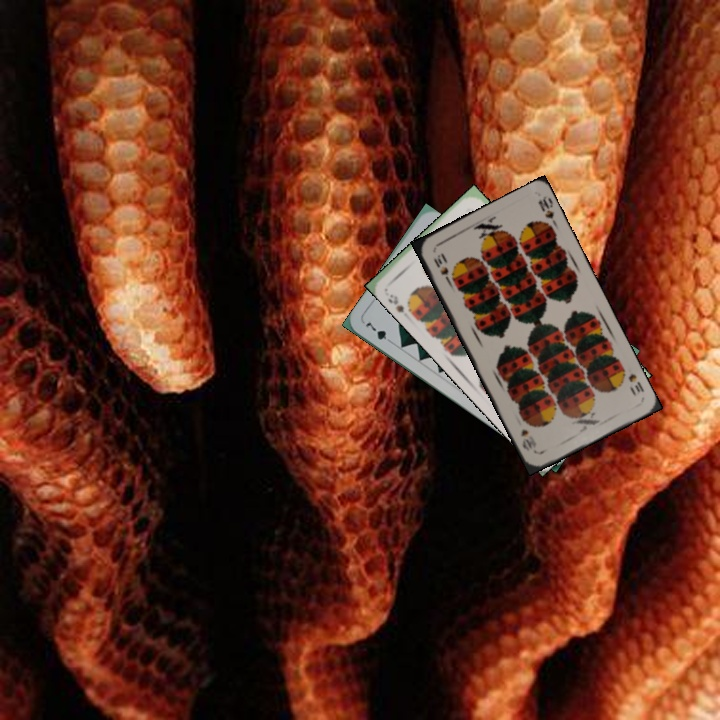G7: (361, 318, 396, 347)
S10: (430, 249, 453, 286), (624, 369, 647, 395)
S9: (384, 290, 417, 317)
